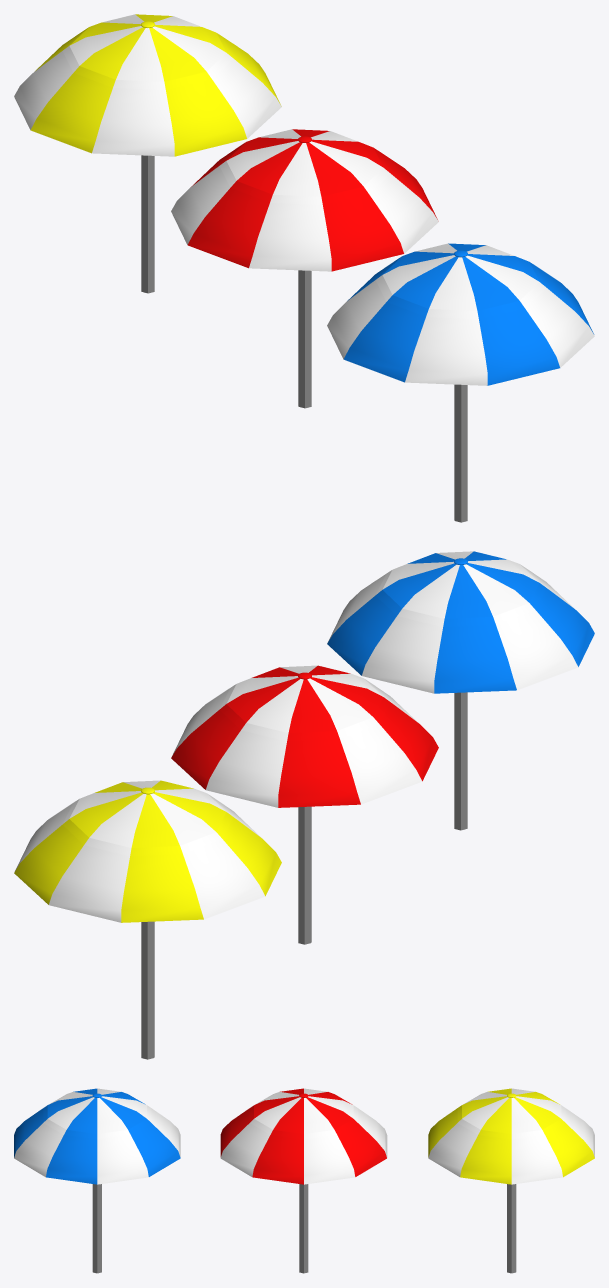
File: paraguasRaros.fbx
3 renders of one model, top to bottom at view 1: azimuth 30°, elevation 25°; view 2: azimuth 150°, elevation 25°; view 3: azimuth 270°, elevation 25°, orthographic. The views are drawn at different scales.
Visible parts, largest first — view 1: pCone1, umbrella:pCone1, pCone2, umbrella:pCylinder1, pCylinder2, pCylinder1; view 2: pCone2, pCone1, umbrella:pCone1, pCylinder1, umbrella:pCylinder1, pCylinder2; view 3: umbrella:pCone1, pCone1, pCone2, umbrella:pCylinder1, pCylinder1, pCylinder2.
Boxes of the visible parts, x1=… form: pCone1: x1=327, y1=243, x2=594, y2=385; umbrella:pCone1: x1=171, y1=129, x2=438, y2=271; pCone2: x1=14, y1=14, x2=281, y2=156; umbrella:pCylinder1: x1=298, y1=270, x2=311, y2=408; pCylinder2: x1=141, y1=155, x2=154, y2=293; pCylinder1: x1=454, y1=384, x2=467, y2=522; pCone2: x1=14, y1=780, x2=281, y2=922; pCone1: x1=327, y1=551, x2=594, y2=693; umbrella:pCone1: x1=171, y1=665, x2=438, y2=807; pCylinder1: x1=454, y1=692, x2=467, y2=830; umbrella:pCylinder1: x1=298, y1=806, x2=311, y2=944; pCylinder2: x1=141, y1=921, x2=154, y2=1059; umbrella:pCone1: x1=220, y1=1088, x2=387, y2=1184; pCone1: x1=14, y1=1088, x2=180, y2=1184; pCone2: x1=428, y1=1088, x2=594, y2=1184; umbrella:pCylinder1: x1=299, y1=1184, x2=308, y2=1273; pCylinder1: x1=92, y1=1184, x2=101, y2=1273; pCylinder2: x1=507, y1=1184, x2=516, y2=1273.
Bounding box in the file's own units: 4.35 × 4.72 × 14.08.
